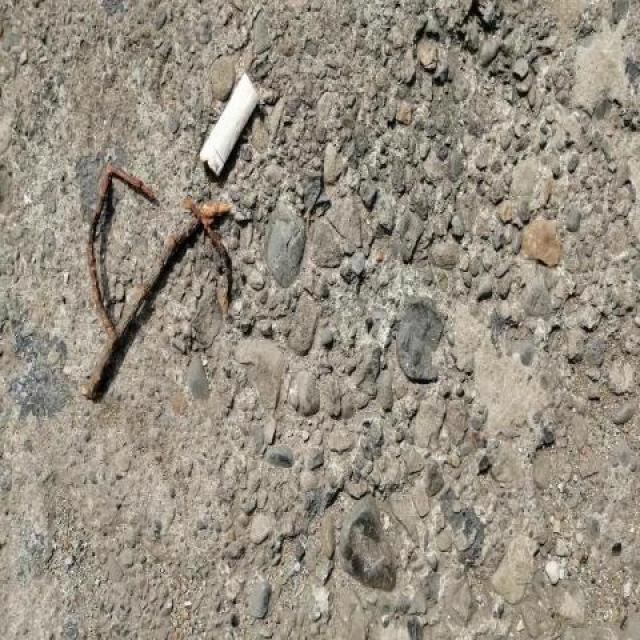non-organic waste: (190, 66, 265, 186)
